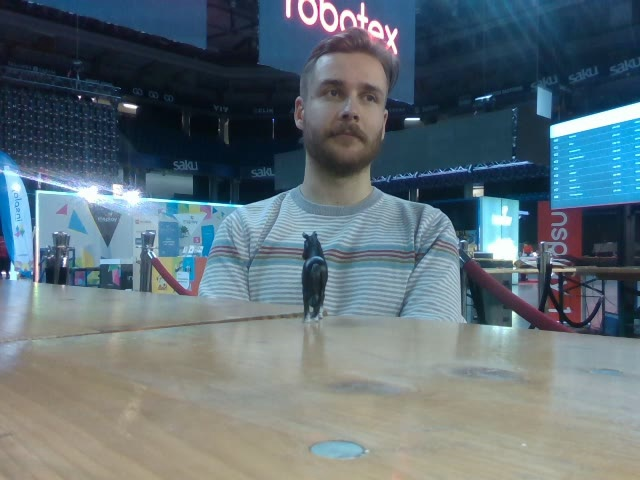toy: (297, 232, 328, 322)
